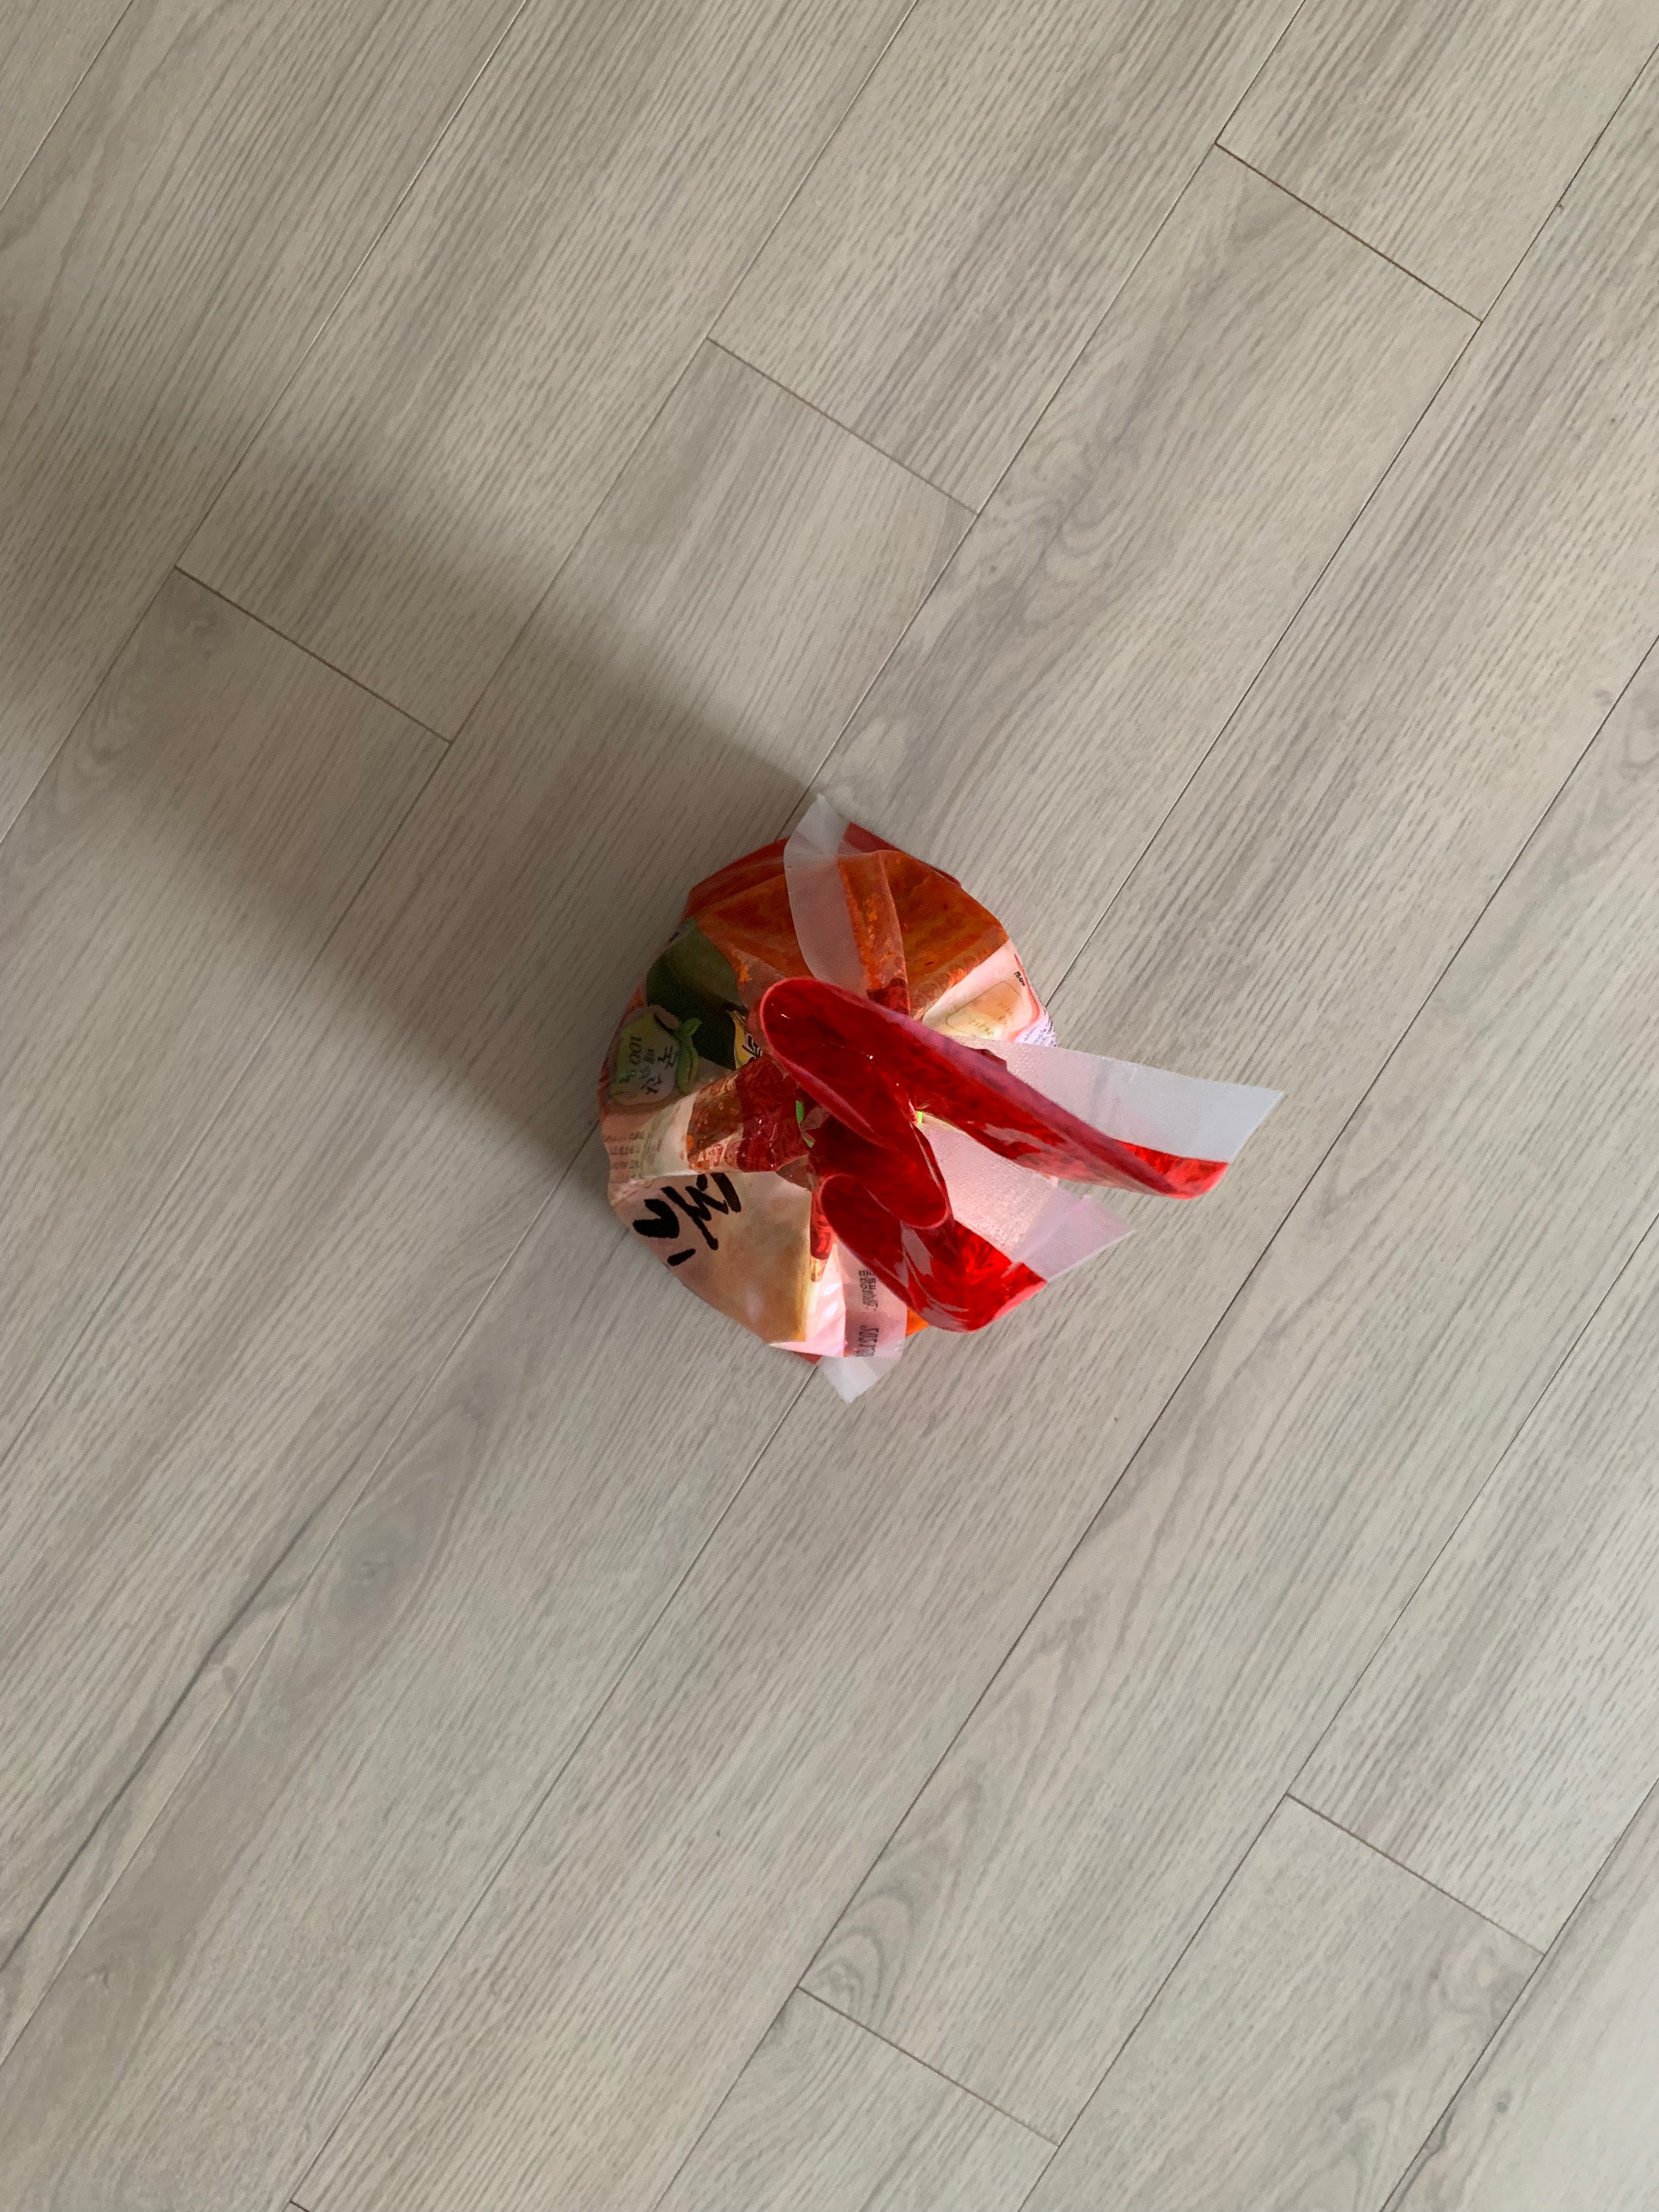kimchi: (599, 826, 1211, 1360)
